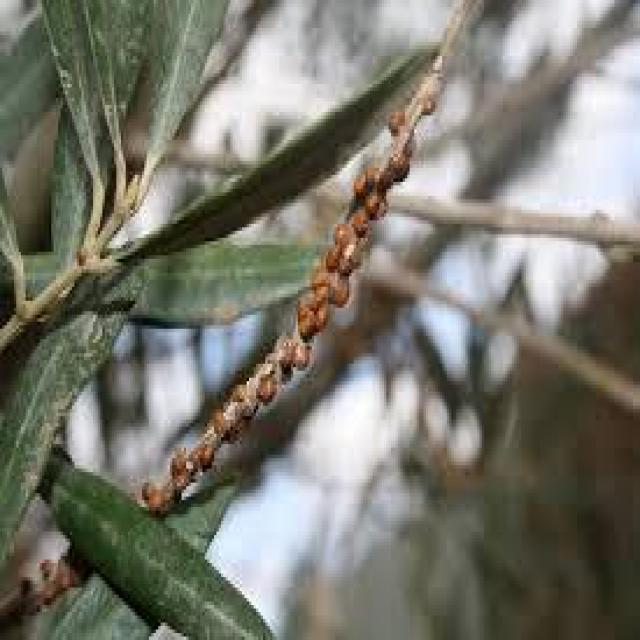BlackScale: (137, 49, 442, 514)
